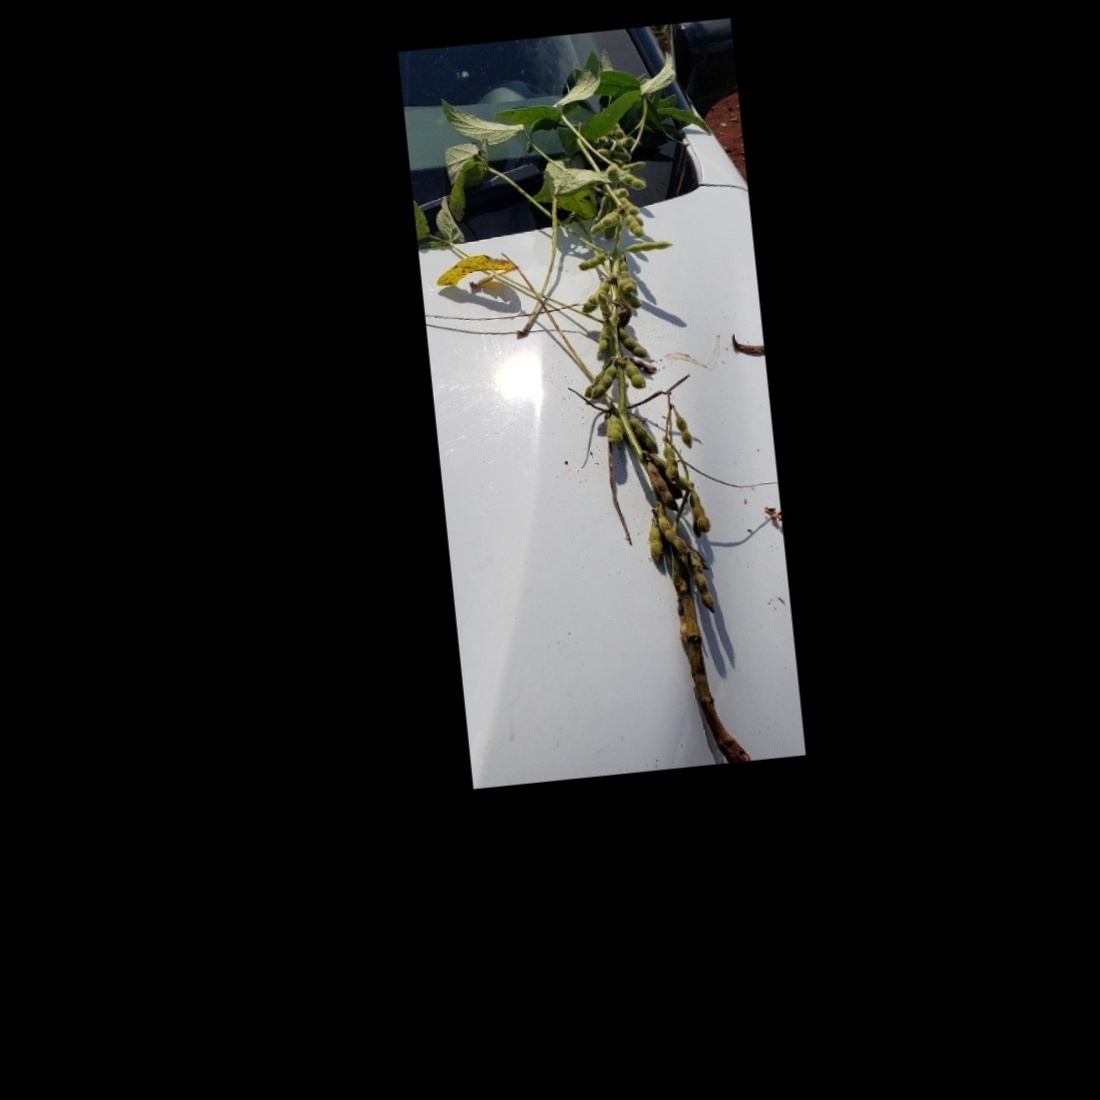pod: (687, 553, 725, 615), (648, 457, 683, 513), (652, 509, 690, 558), (585, 358, 622, 402), (620, 233, 676, 257), (613, 324, 650, 362), (685, 491, 712, 536), (671, 406, 696, 452), (624, 356, 650, 395), (601, 411, 629, 446), (573, 249, 610, 273), (645, 526, 667, 564), (620, 211, 646, 241), (618, 169, 649, 193)
soy: (426, 44, 785, 773)
